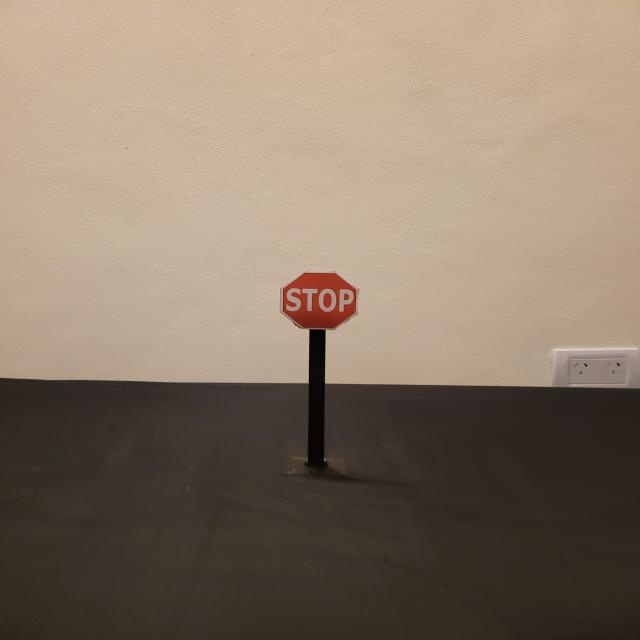stop: (278, 270, 362, 332)
